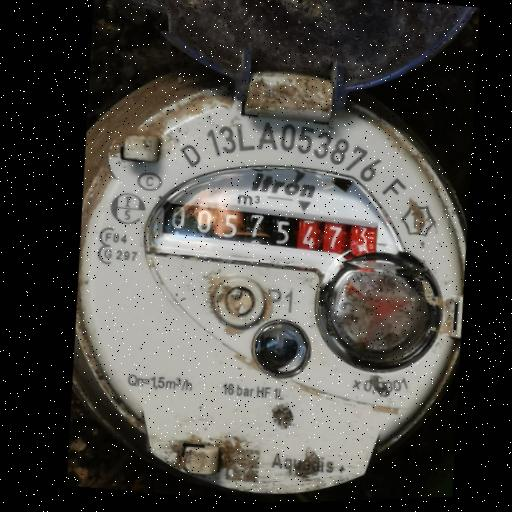0: (165, 202, 191, 237), (192, 205, 218, 240)
3: (348, 223, 380, 259)
4: (297, 218, 323, 251)
5: (217, 207, 243, 243), (270, 214, 296, 249)
7: (243, 211, 269, 247), (323, 221, 346, 255)
border_water_meter_number: (157, 189, 383, 273)
